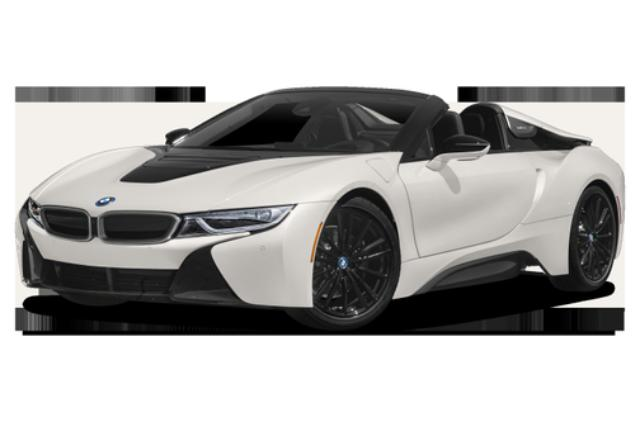bmw: (15, 86, 625, 332)
